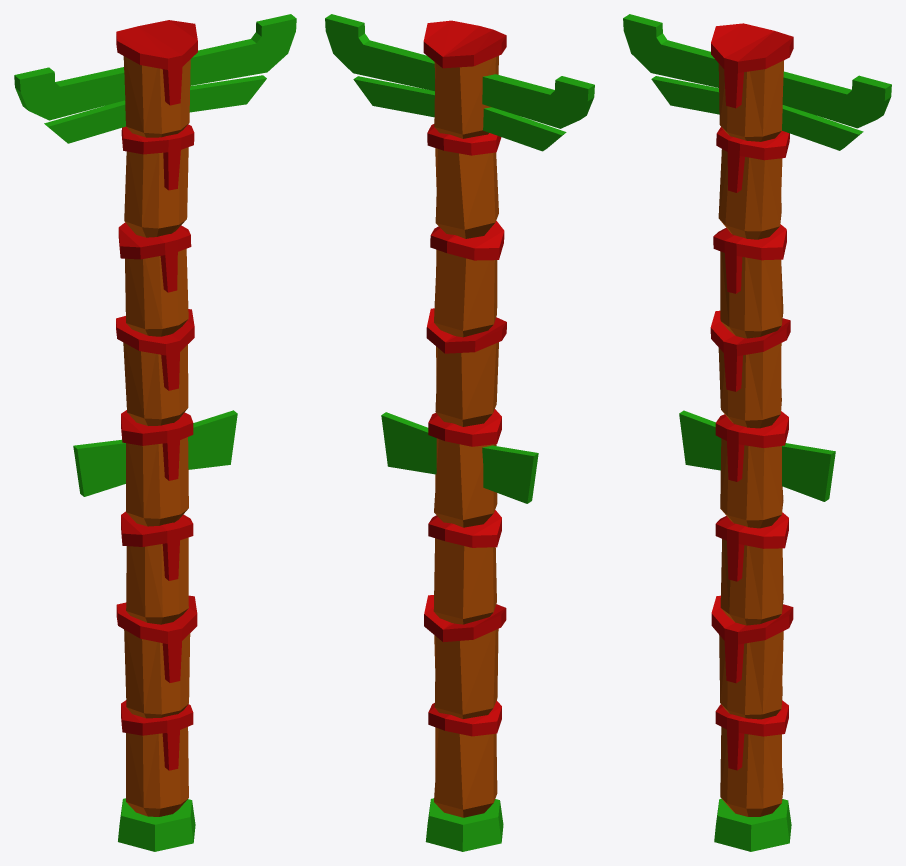
Rendered from totem.obj.
3 views of the same model, side by side, from view 1: azimuth 30°, elevation 25°; view 2: azimuth 150°, elevation 25°; view 3: azimuth 330°, elevation 25° (orthographic).
Parts seen in each view (by area): view 1: ghz03_km_totemB_20; view 2: ghz03_km_totemB_20; view 3: ghz03_km_totemB_20.
Boxes of the visible parts, x1=… form: ghz03_km_totemB_20: x1=14, y1=14, x2=296, y2=851; ghz03_km_totemB_20: x1=325, y1=14, x2=594, y2=851; ghz03_km_totemB_20: x1=623, y1=14, x2=891, y2=851.
Size of the model in its own units: 4.36 by 12.36 by 1.15.
